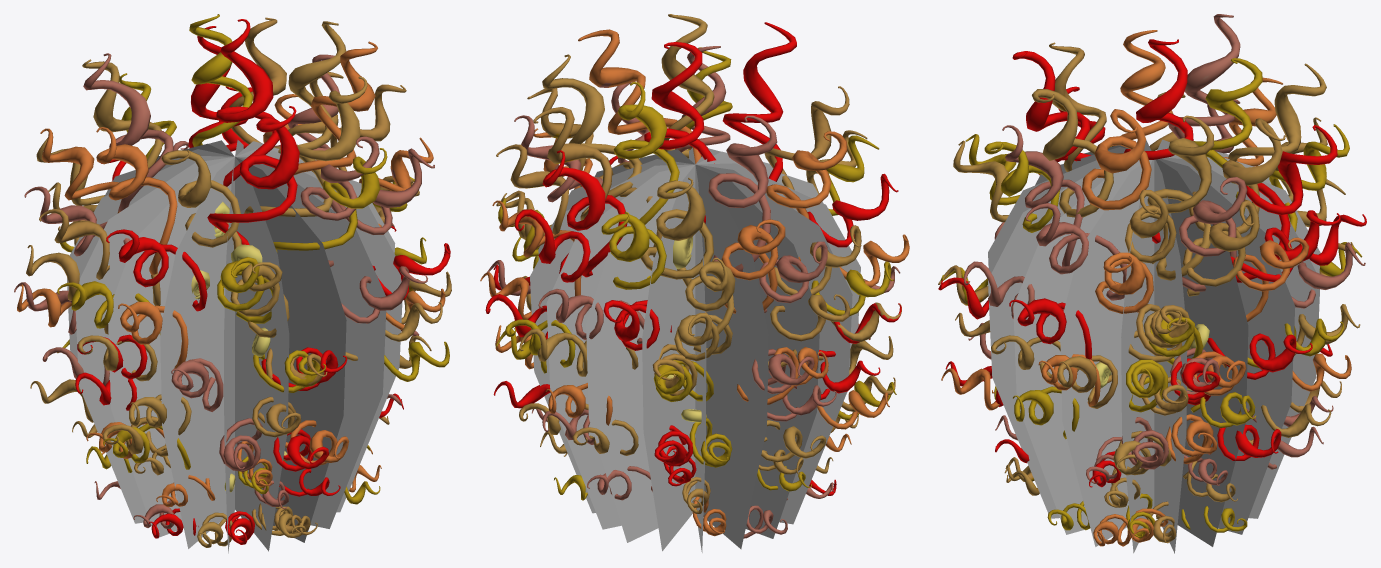
Rendered from MidDecor4.fbx.
3 views of the same model, side by side, from view 1: azimuth 30°, elevation 25°; view 2: azimuth 150°, elevation 25°; view 3: azimuth 270°, elevation 25° (orthographic). The views are drawn at different scales.
Visible parts, largest first — view 1: MidDecor4_LOD0; view 2: MidDecor4_LOD0; view 3: MidDecor4_LOD0.
Boxes of the visible parts, x1,y1,x2,y2 form: MidDecor4_LOD0: (14,14,451,553); MidDecor4_LOD0: (480,14,909,552); MidDecor4_LOD0: (938,14,1366,553).
Size of what is drawn, in the model's own units: 299 by 362 by 290.
